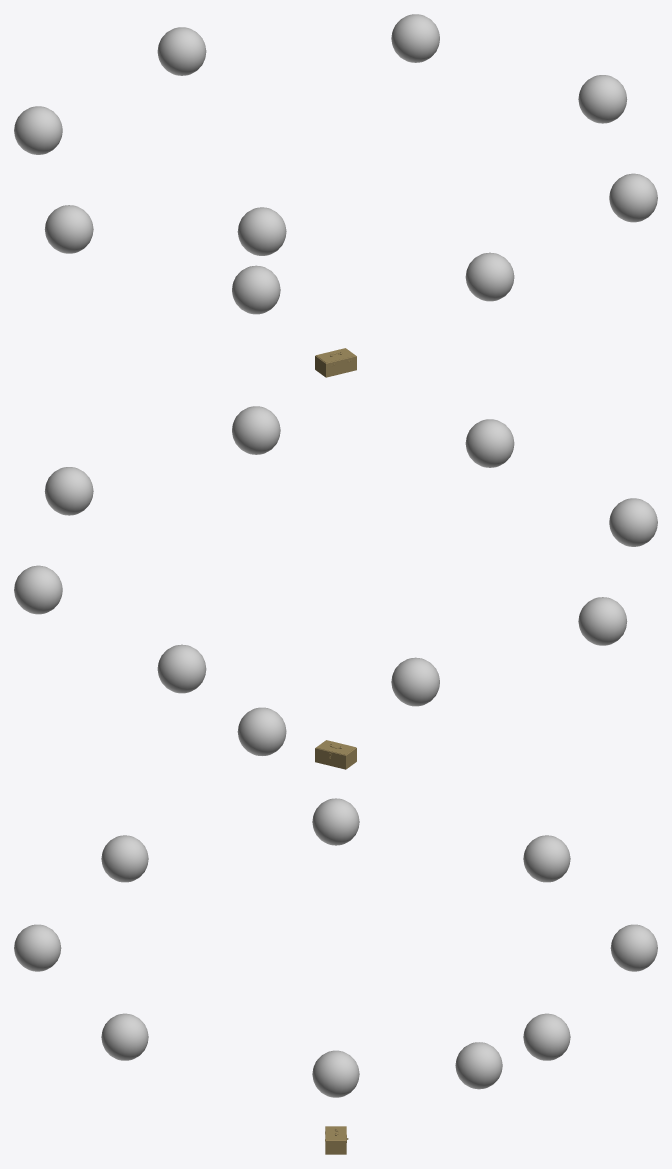
The model's file is OLD_BOX.fbx.
The picture shows the model from 3 angles, top to bottom: view 1: azimuth 30°, elevation 25°; view 2: azimuth 150°, elevation 25°; view 3: azimuth 270°, elevation 25°; orthographic projection. The views are drawn at different scales.
Parts seen in each view (by area): view 1: Sphere_1_4, Sphere_1_5, Sphere_1_1, Sphere_1_7, Sphere_1_2, Sphere_1_6, Sphere, Sphere_1_8, Sphere_1_3; view 2: Sphere_1_8, Sphere_1_7, Sphere_1_3, Sphere_1_5, Sphere_1_2, Sphere, Sphere_1_6, Sphere_1_4, Sphere_1_1; view 3: Sphere_1_3, Sphere_1_1, Sphere_1_2, Sphere_1_6, Sphere_1_7, Sphere_1_5, Sphere_1_8, Sphere_1_4, Sphere.
Boxes of the visible parts, bbox=[...] form: Sphere_1_4: bbox=[465, 252, 514, 301]; Sphere_1_5: bbox=[609, 173, 657, 222]; Sphere_1_1: bbox=[14, 106, 62, 154]; Sphere_1_7: bbox=[391, 14, 439, 62]; Sphere_1_2: bbox=[44, 205, 93, 253]; Sphere_1_6: bbox=[578, 75, 627, 123]; Sphere: bbox=[237, 207, 286, 255]; Sphere_1_8: bbox=[157, 27, 206, 75]; Sphere_1_3: bbox=[232, 265, 280, 314]; Sphere_1_8: bbox=[157, 644, 206, 693]; Sphere_1_7: bbox=[14, 565, 62, 614]; Sphere_1_3: bbox=[609, 498, 657, 546]; Sphere_1_5: bbox=[232, 406, 280, 454]; Sphere_1_2: bbox=[578, 597, 627, 645]; Sphere: bbox=[237, 707, 286, 755]; Sphere_1_6: bbox=[44, 467, 93, 515]; Sphere_1_4: bbox=[465, 419, 514, 467]; Sphere_1_1: bbox=[391, 657, 439, 706]; Sphere_1_3: bbox=[101, 835, 148, 882]; Sphere_1_1: bbox=[523, 835, 570, 882]; Sphere_1_2: bbox=[312, 798, 359, 845]; Sphere_1_6: bbox=[312, 1050, 359, 1097]; Sphere_1_7: bbox=[523, 1013, 570, 1060]; Sphere_1_5: bbox=[101, 1013, 148, 1060]; Sphere_1_8: bbox=[610, 924, 657, 971]; Sphere_1_4: bbox=[14, 924, 61, 971]; Sphere: bbox=[455, 1042, 502, 1089].
Bounding box in the file's own units: 6799 × 2583 × 6799.
